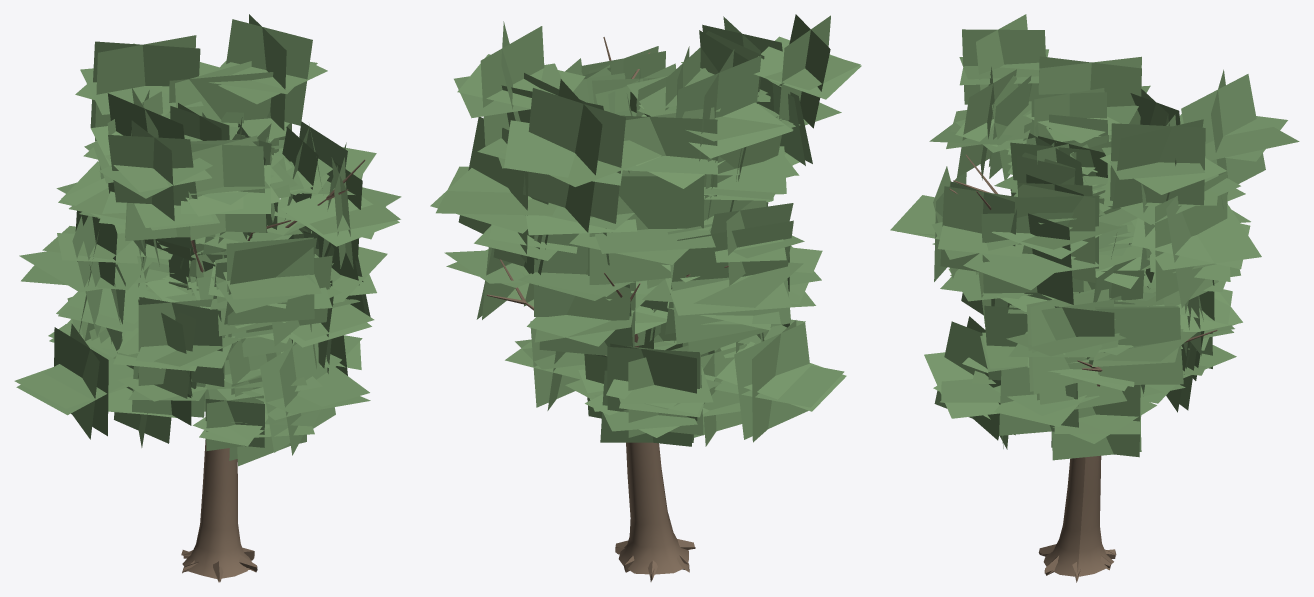
File: tree_oak.glb
3 views of the same model, side by side, from view 1: azimuth 30°, elevation 25°; view 2: azimuth 150°, elevation 25°; view 3: azimuth 270°, elevation 25° (orthographic). The views are drawn at different scales.
Visible parts, largest first — view 1: Tree_oak; view 2: Tree_oak; view 3: Tree_oak.
Boxes of the visible parts, bbox=[...] form: Tree_oak: bbox=[14, 14, 401, 582]; Tree_oak: bbox=[430, 14, 861, 581]; Tree_oak: bbox=[890, 14, 1299, 582].
Size of the model in its own units: 7.38 by 10.37 by 7.92.
